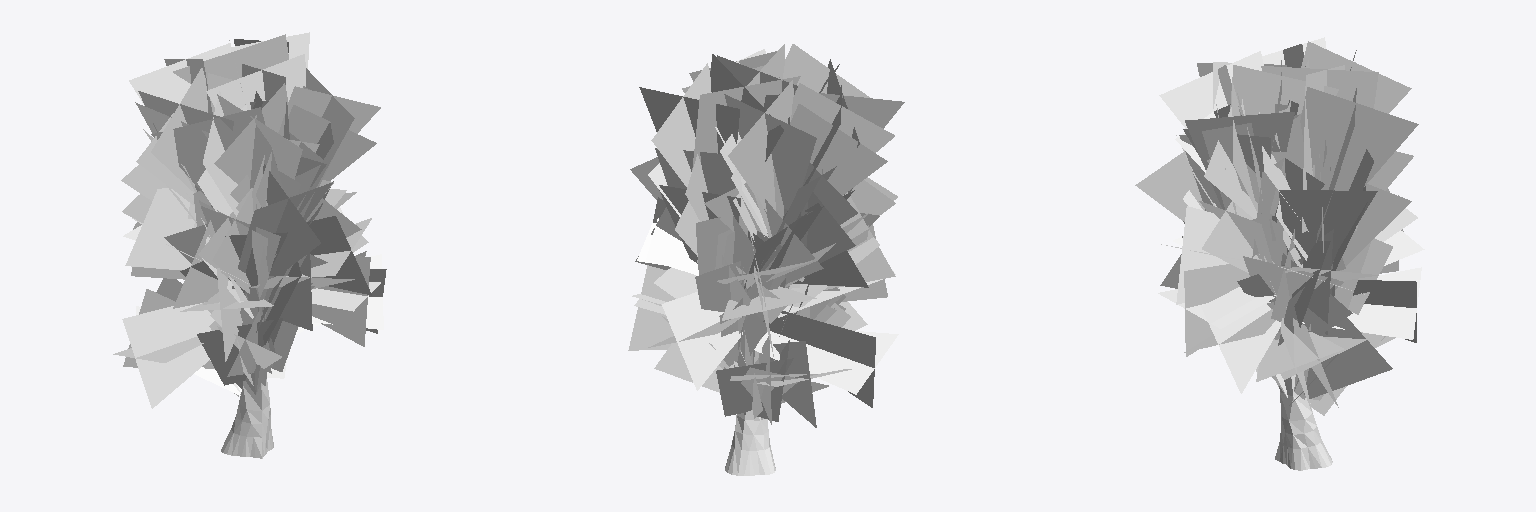
The model's file is tree03.obj.
3 views of the same model, side by side, from view 1: azimuth 30°, elevation 25°; view 2: azimuth 150°, elevation 25°; view 3: azimuth 270°, elevation 25° (orthographic).
Parts seen in each view (by area): view 1: tree03; view 2: tree03; view 3: tree03.
Boxes of the visible parts, box(x1,y1,x2,y2) form: tree03: box(113, 32, 386, 458); tree03: box(628, 44, 904, 475); tree03: box(1135, 37, 1424, 470).
Size of the model in its own units: 5.41 by 8.62 by 5.6.